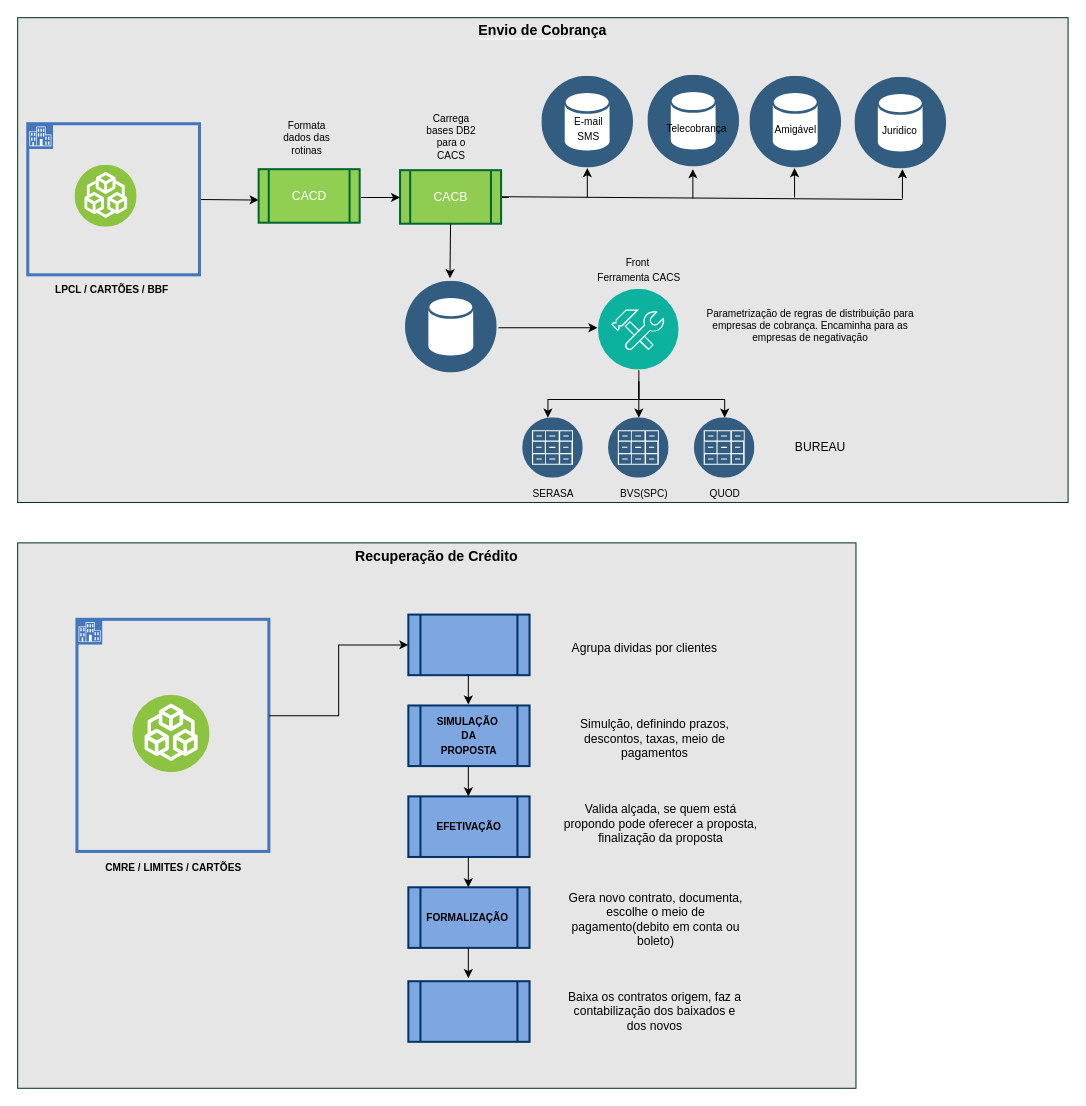
The diagram is 1086 pixels wide and 1106 high, and some of its shapes have lost their labels. Each missing label, with the box of its shape:
COMPOR DIVIDA: (407, 613, 530, 676)
CONTABILIZAÇÃO: (407, 980, 530, 1042)
DB2 CACS: (405, 281, 497, 373)
Origem de contratos: (75, 617, 270, 852)
Sistemas Legado: (26, 122, 200, 276)
